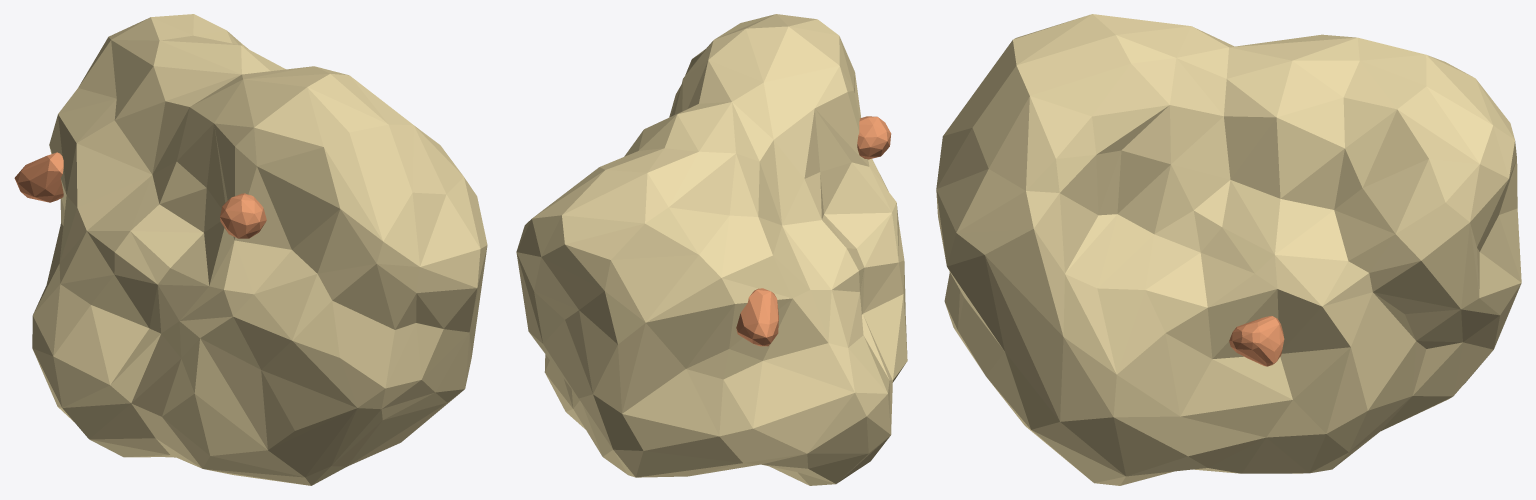
Rendered from StoneOre (33).fbx.
3 views of the same model, side by side, from view 1: azimuth 30°, elevation 25°; view 2: azimuth 150°, elevation 25°; view 3: azimuth 270°, elevation 25° (orthographic). The views are drawn at different scales.
Parts seen in each view (by area): view 1: Asteroid320; view 2: Asteroid320; view 3: Asteroid320.
Boxes of the visible parts, box(x1,y1,x2,y2) form: Asteroid320: box(14, 14, 487, 485); Asteroid320: box(516, 14, 907, 485); Asteroid320: box(936, 14, 1521, 485).
Bounding box in the file's own units: 235 × 264 × 320.
